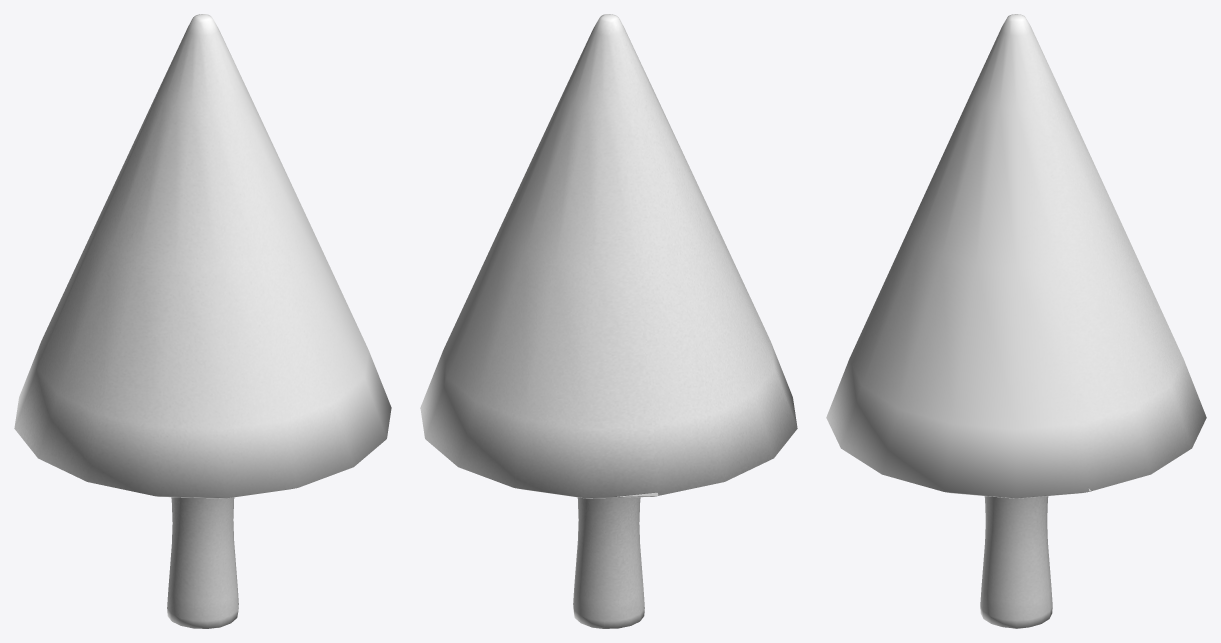
Rendered from tree_cone_00.obj.
The picture shows the model from 3 angles, left to right: view 1: azimuth 30°, elevation 25°; view 2: azimuth 150°, elevation 25°; view 3: azimuth 270°, elevation 25°; orthographic projection.
Bounding box in the file's own units: 1.77 × 3.08 × 1.77.
